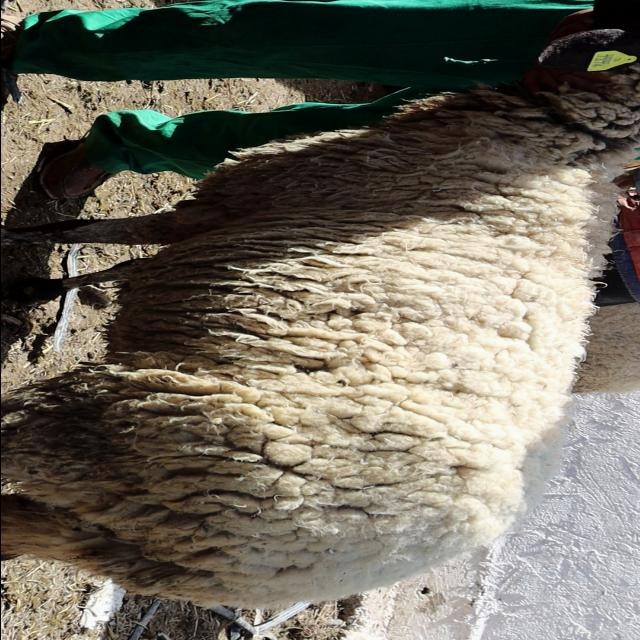Score_3: (1, 0, 640, 608)
